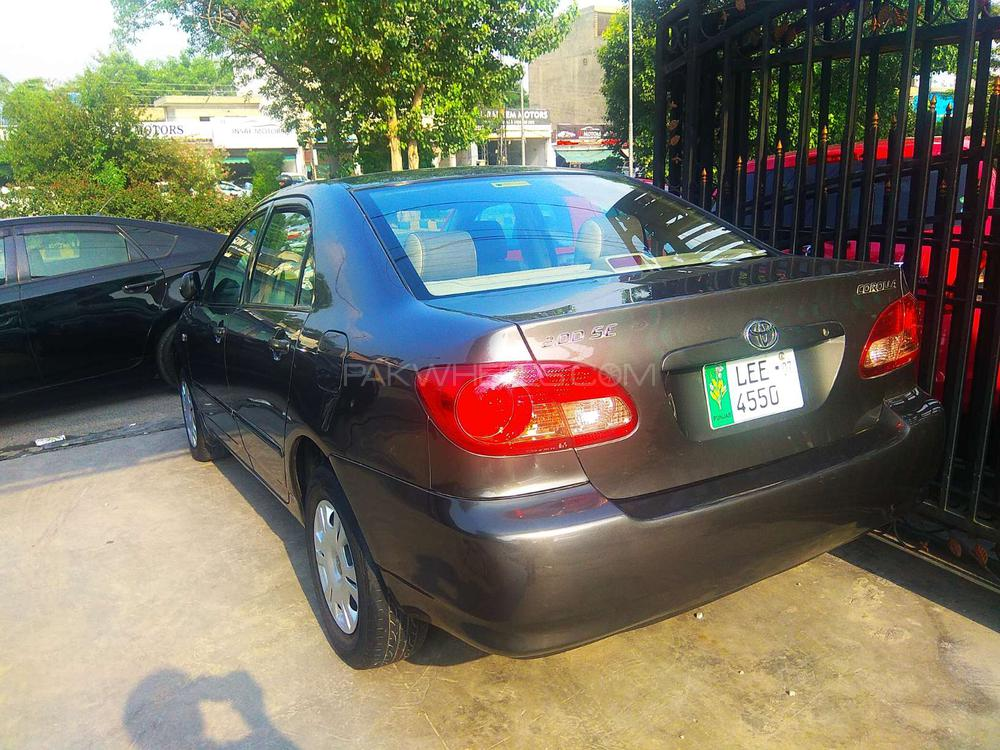license plate: (701, 363, 817, 420)
